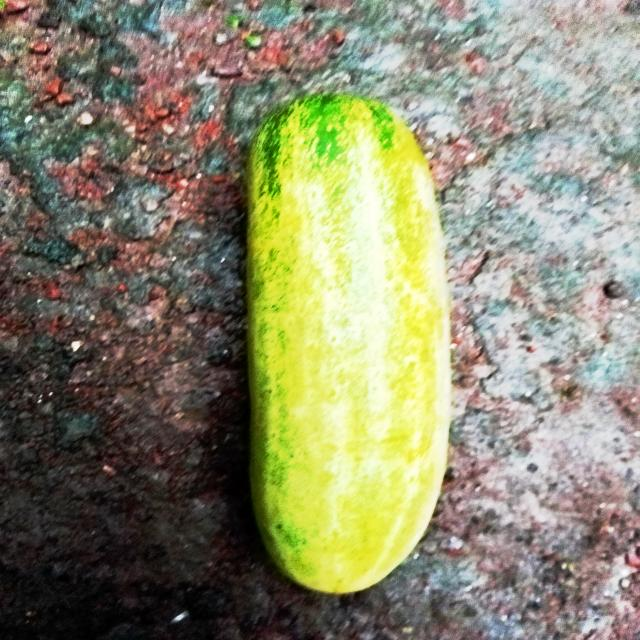Fresh-Cucumber: (243, 88, 454, 600)
